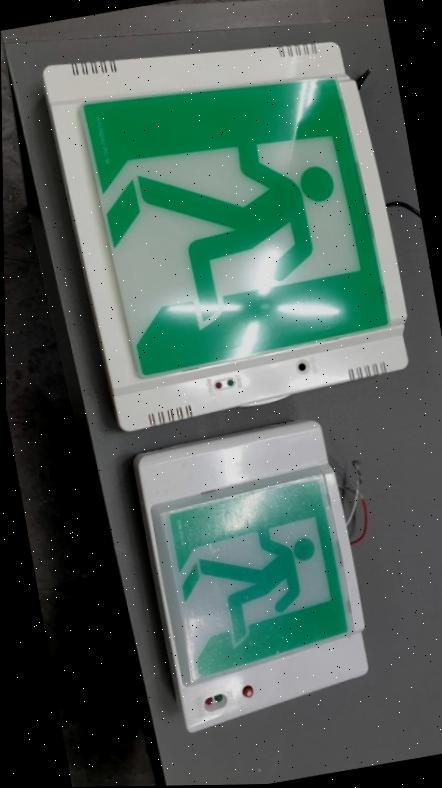emergency_exit: (44, 42, 410, 432), (133, 420, 370, 733)
